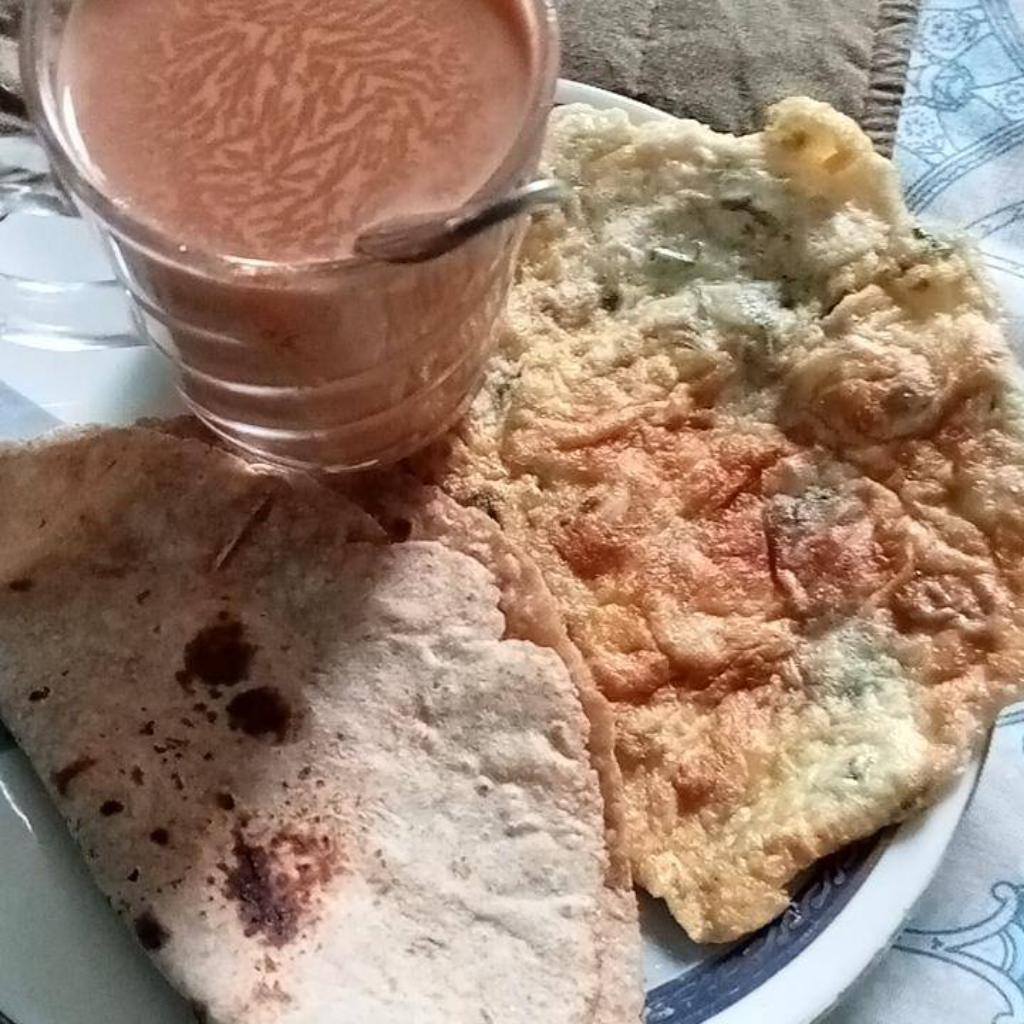cha: (59, 3, 532, 260)
egg-poached: (388, 102, 1023, 949)
ruti: (0, 434, 606, 1019)
